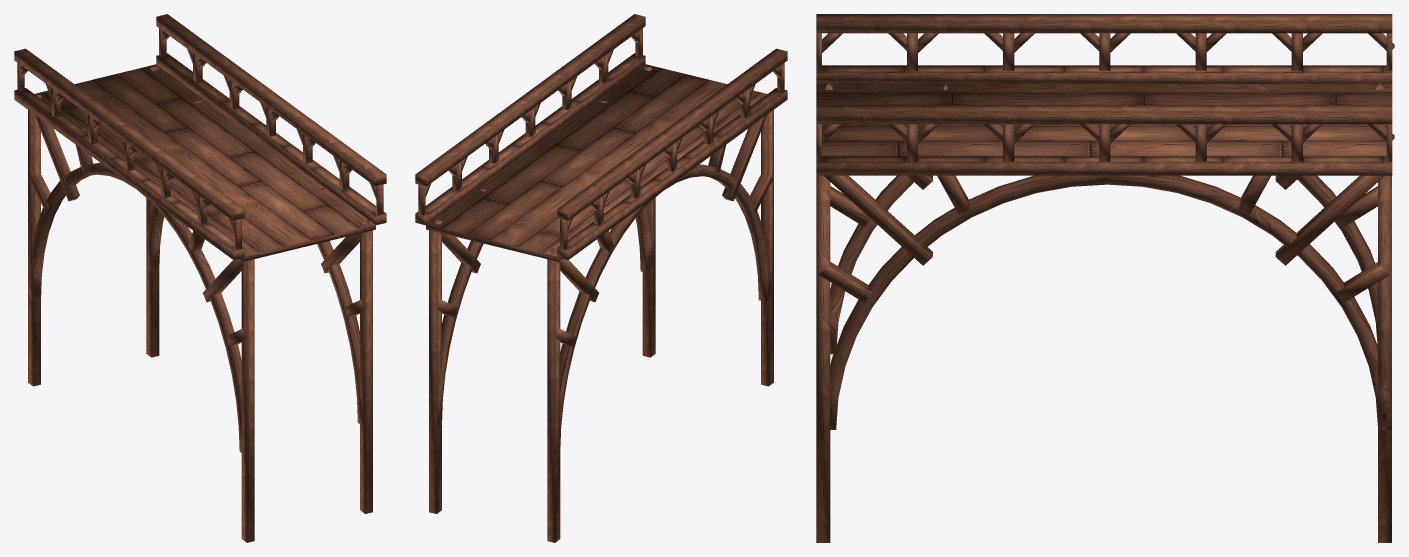
The model's file is PONT.fbx.
3 views of the same model, side by side, from view 1: azimuth 30°, elevation 25°; view 2: azimuth 150°, elevation 25°; view 3: azimuth 270°, elevation 25° (orthographic). The views are drawn at different scales.
Visible parts, largest first — view 1: Cube; view 2: Cube; view 3: Cube.
Boxes of the visible parts, x1=… form: Cube: x1=14, y1=14, x2=386, y2=542; Cube: x1=415, y1=14, x2=787, y2=542; Cube: x1=816, y1=14, x2=1394, y2=542.
Size of the model in its own units: 232 by 485 by 579.
